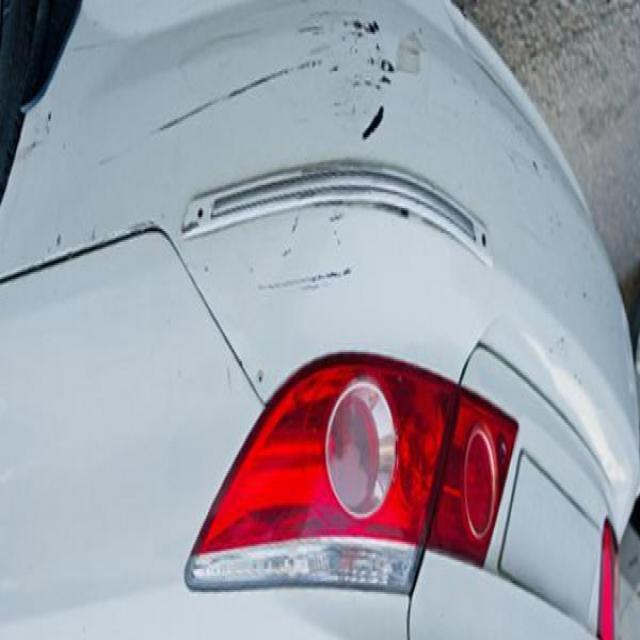scratch: (155, 46, 324, 150), (242, 257, 356, 303)
